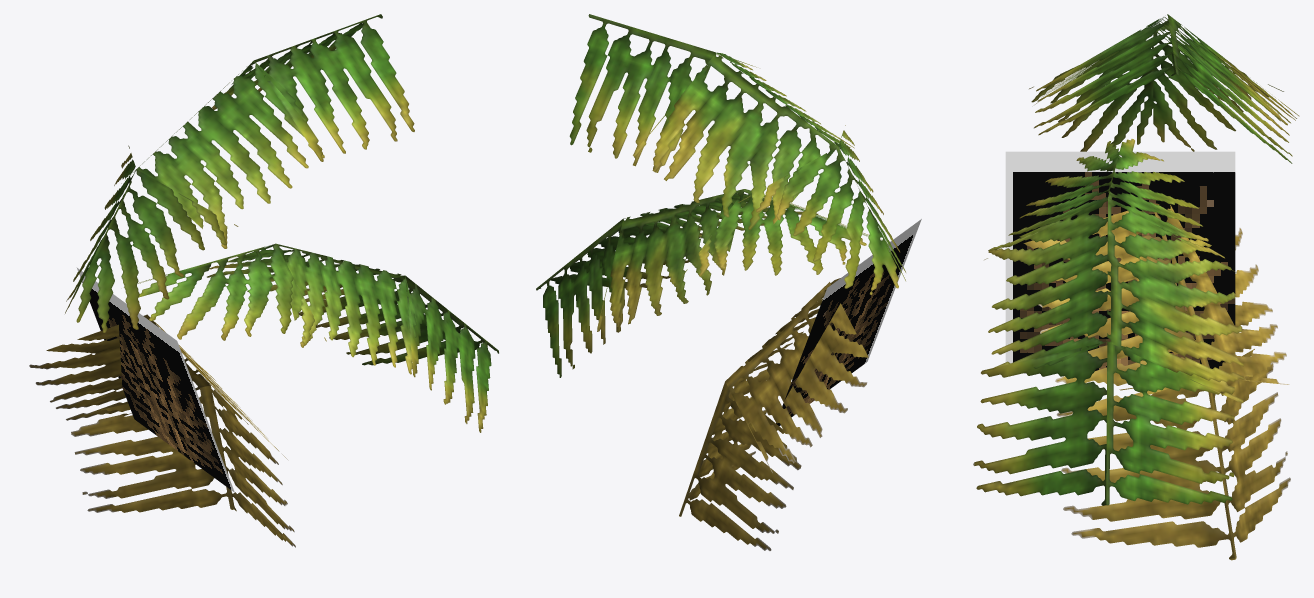
The model's file is caribbean_royal_palm_old_straight_1.obj.
3 views of the same model, side by side, from view 1: azimuth 30°, elevation 25°; view 2: azimuth 150°, elevation 25°; view 3: azimuth 270°, elevation 25° (orthographic). The views are drawn at different scales.
Visible parts, largest first — view 1: cube.449; view 2: cube.449; view 3: cube.449.
Part boxes in pixels (x1,y1,x2,y2): cube.449: (29,14,498,547); cube.449: (536,14,921,550); cube.449: (973,14,1299,560).
Size of the model in its own units: 3.59 by 4.1 by 2.15.
